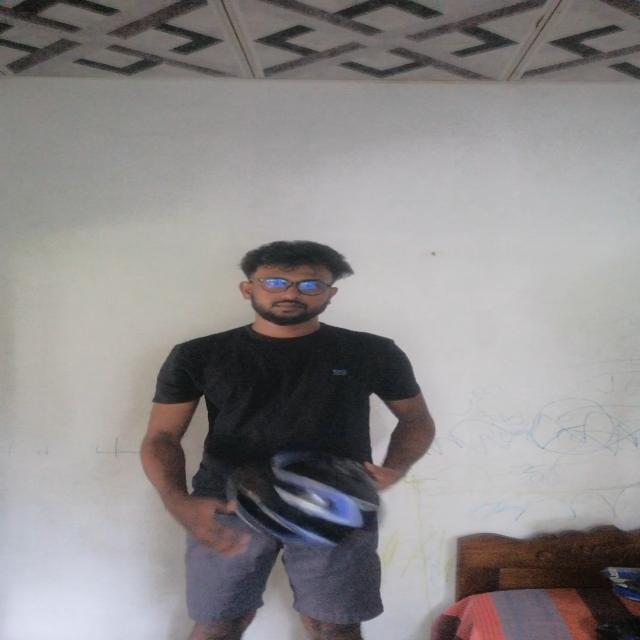Person: (131, 231, 453, 640)
